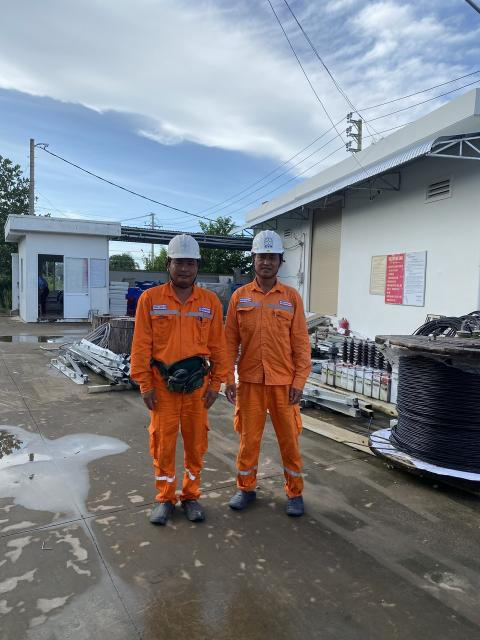harness: (136, 356, 228, 399)
helmet: (241, 214, 291, 270), (158, 224, 213, 267)
shoes: (163, 491, 212, 530), (279, 486, 311, 528), (139, 496, 177, 529), (221, 484, 256, 514)
